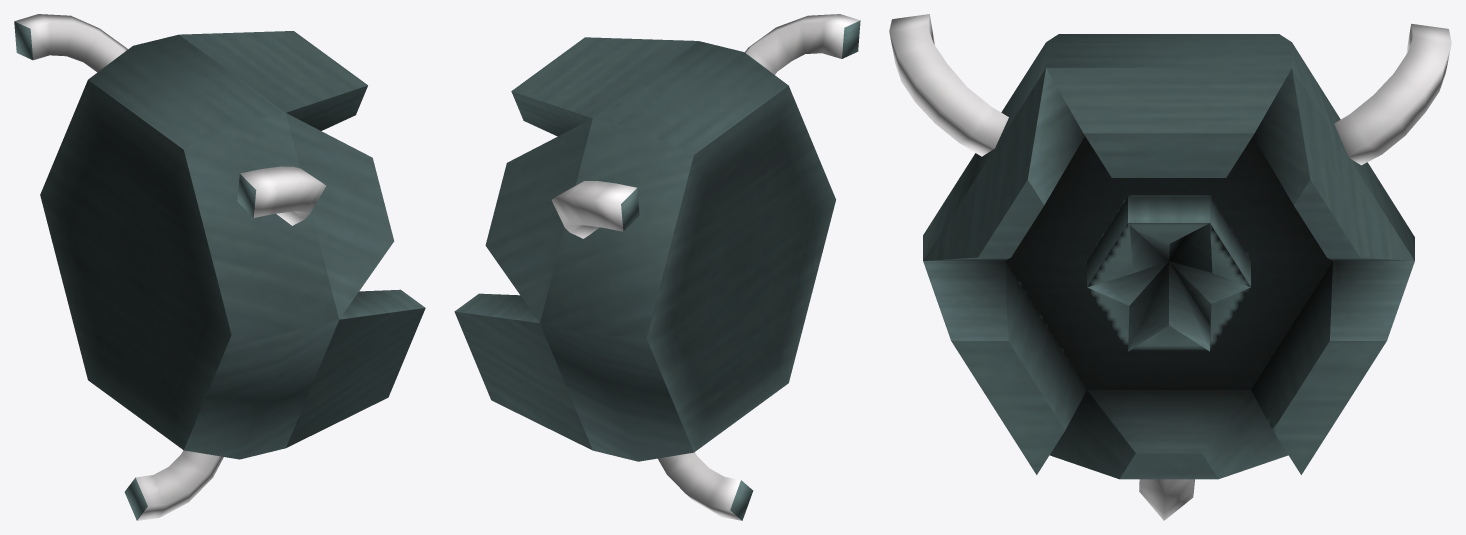
The model's file is viroPortLeft.FBX.
3 views of the same model, side by side, from view 1: azimuth 30°, elevation 25°; view 2: azimuth 150°, elevation 25°; view 3: azimuth 270°, elevation 25° (orthographic). The views are drawn at different scales.
Visible parts, largest first — view 1: Cylinder001; view 2: Cylinder001; view 3: Cylinder001.
Boxes of the visible parts, bbox=[...] form: Cylinder001: bbox=[14, 14, 425, 520]; Cylinder001: bbox=[454, 14, 860, 520]; Cylinder001: bbox=[889, 14, 1451, 520].
Bounding box in the file's own units: 5.16 × 10.74 × 11.2.
Materials: 1 (1 with a texture image).
